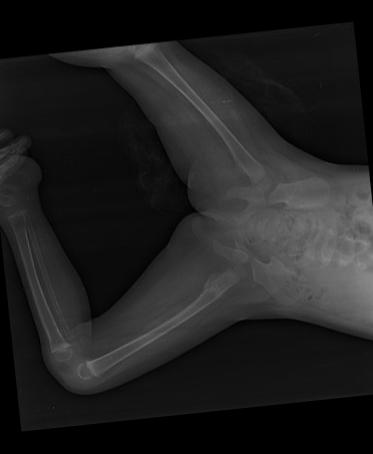fractured: (194, 273, 228, 306)
